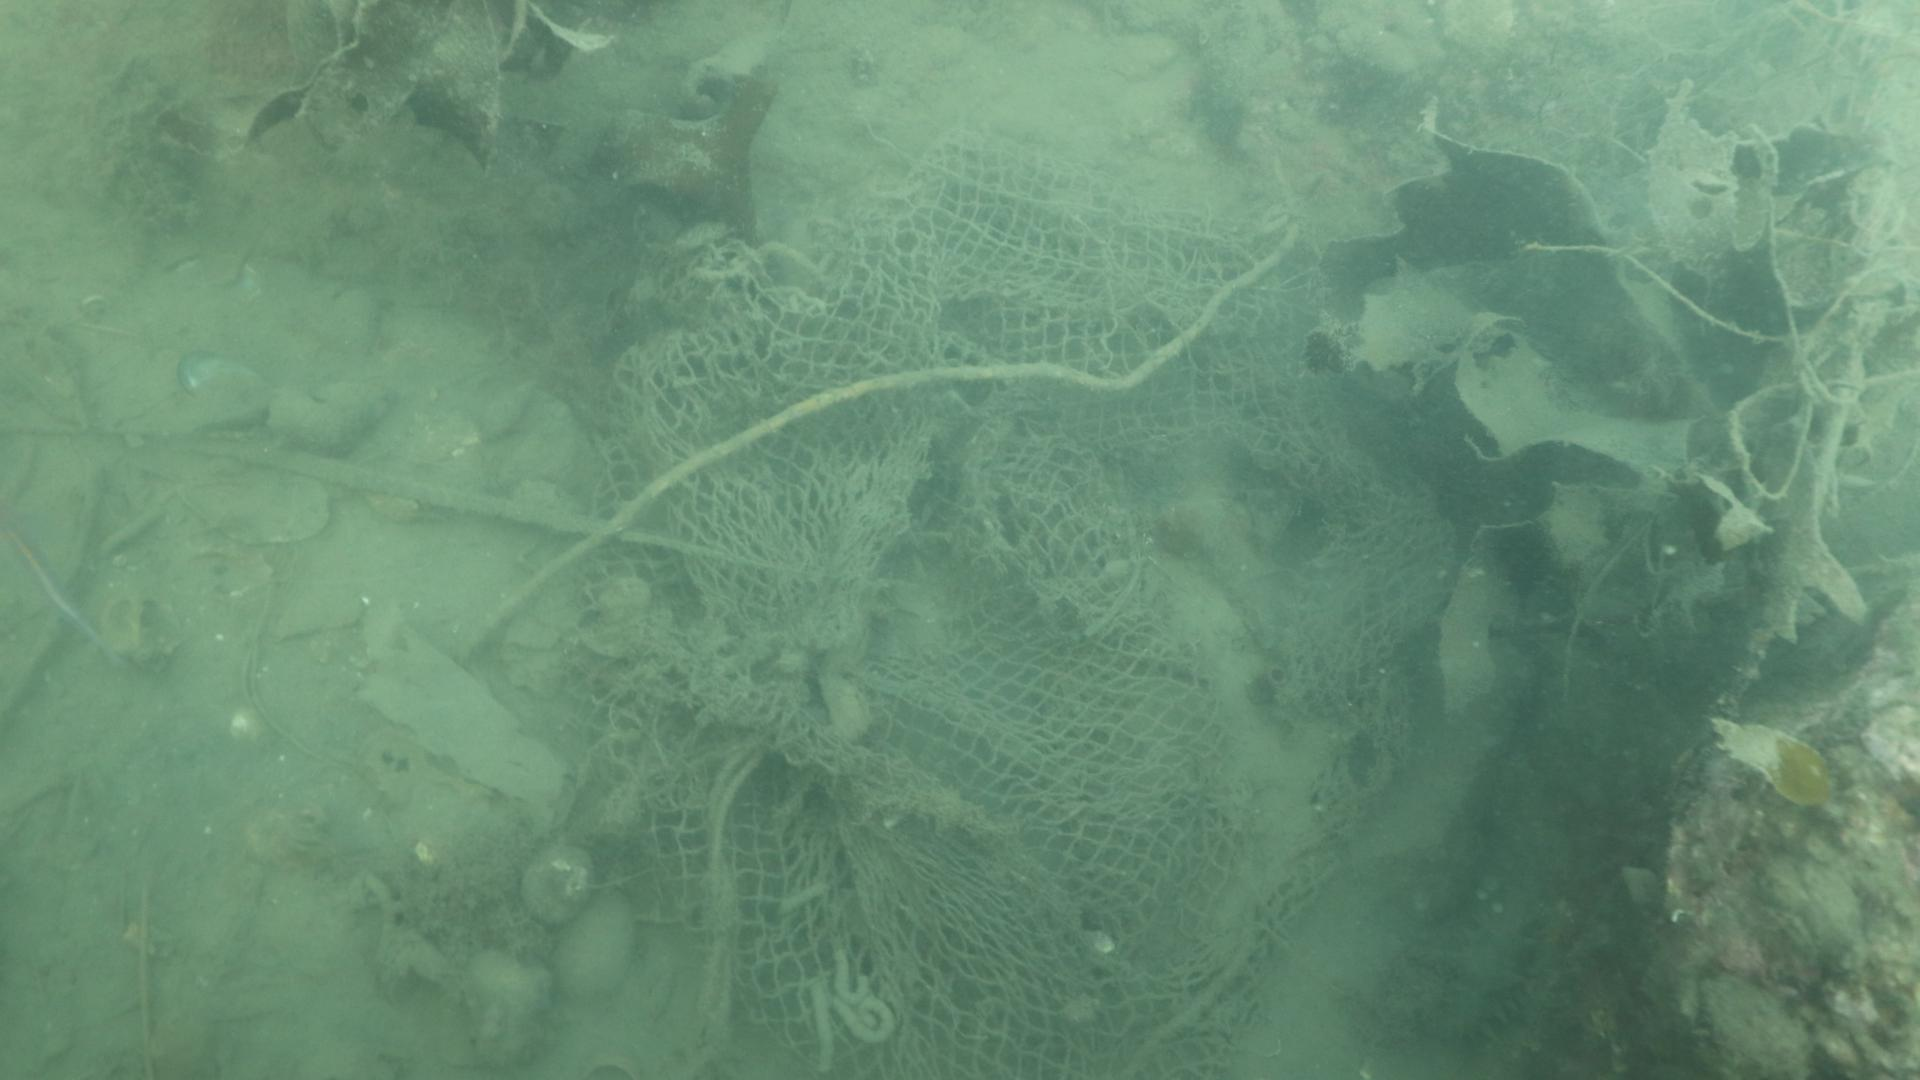fish net: (576, 131, 1455, 1080)
